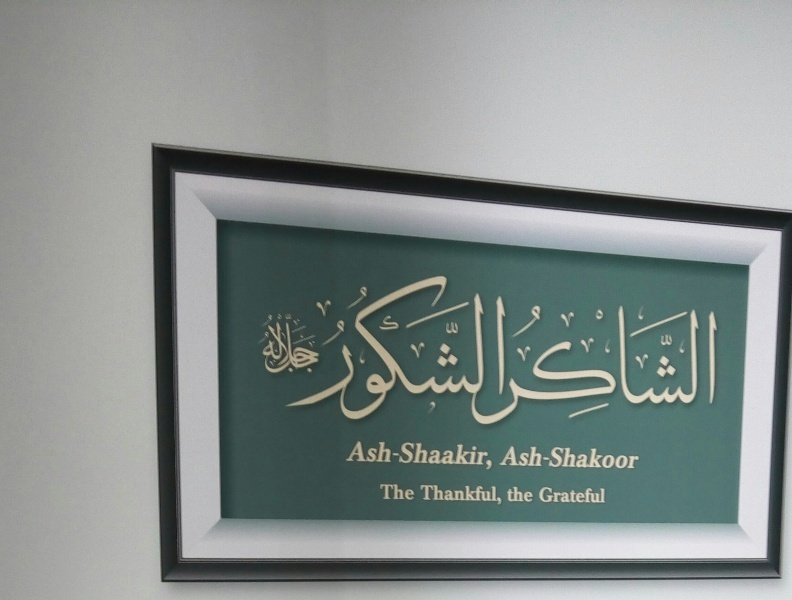text: (369, 273, 384, 424), (385, 273, 400, 424), (401, 273, 416, 424), (417, 273, 432, 424), (433, 273, 448, 424), (449, 273, 464, 424), (465, 273, 480, 424), (481, 273, 496, 424), (355, 273, 368, 424), (481, 303, 496, 428), (497, 303, 512, 428), (513, 303, 528, 428), (529, 303, 544, 428), (545, 303, 560, 428), (561, 303, 576, 428), (577, 303, 592, 428), (593, 303, 608, 428), (609, 303, 624, 428), (625, 303, 640, 428), (641, 303, 656, 428), (657, 303, 672, 428), (673, 303, 688, 428), (689, 303, 704, 428), (705, 303, 719, 428), (497, 273, 508, 424), (257, 310, 272, 377), (273, 310, 288, 377), (289, 310, 304, 377), (305, 310, 320, 377), (369, 439, 384, 471), (385, 439, 400, 471), (401, 439, 416, 471), (417, 439, 432, 471), (433, 439, 448, 471), (449, 439, 464, 471), (465, 439, 480, 471), (481, 439, 494, 471), (513, 444, 528, 470), (529, 444, 544, 470), (545, 444, 560, 470), (561, 444, 576, 470), (577, 444, 592, 470), (593, 444, 608, 470), (609, 444, 624, 470), (625, 444, 640, 470), (358, 439, 368, 471), (433, 485, 448, 505), (449, 485, 464, 505), (465, 485, 480, 505), (481, 485, 496, 505), (593, 487, 609, 504), (545, 487, 560, 504), (561, 487, 576, 504), (577, 487, 592, 504), (385, 484, 400, 501), (401, 484, 416, 501), (420, 485, 432, 505), (513, 487, 528, 503), (497, 485, 503, 505), (506, 487, 512, 503), (529, 487, 535, 503), (509, 444, 512, 470), (641, 444, 644, 470), (380, 484, 384, 501), (541, 487, 544, 504)
